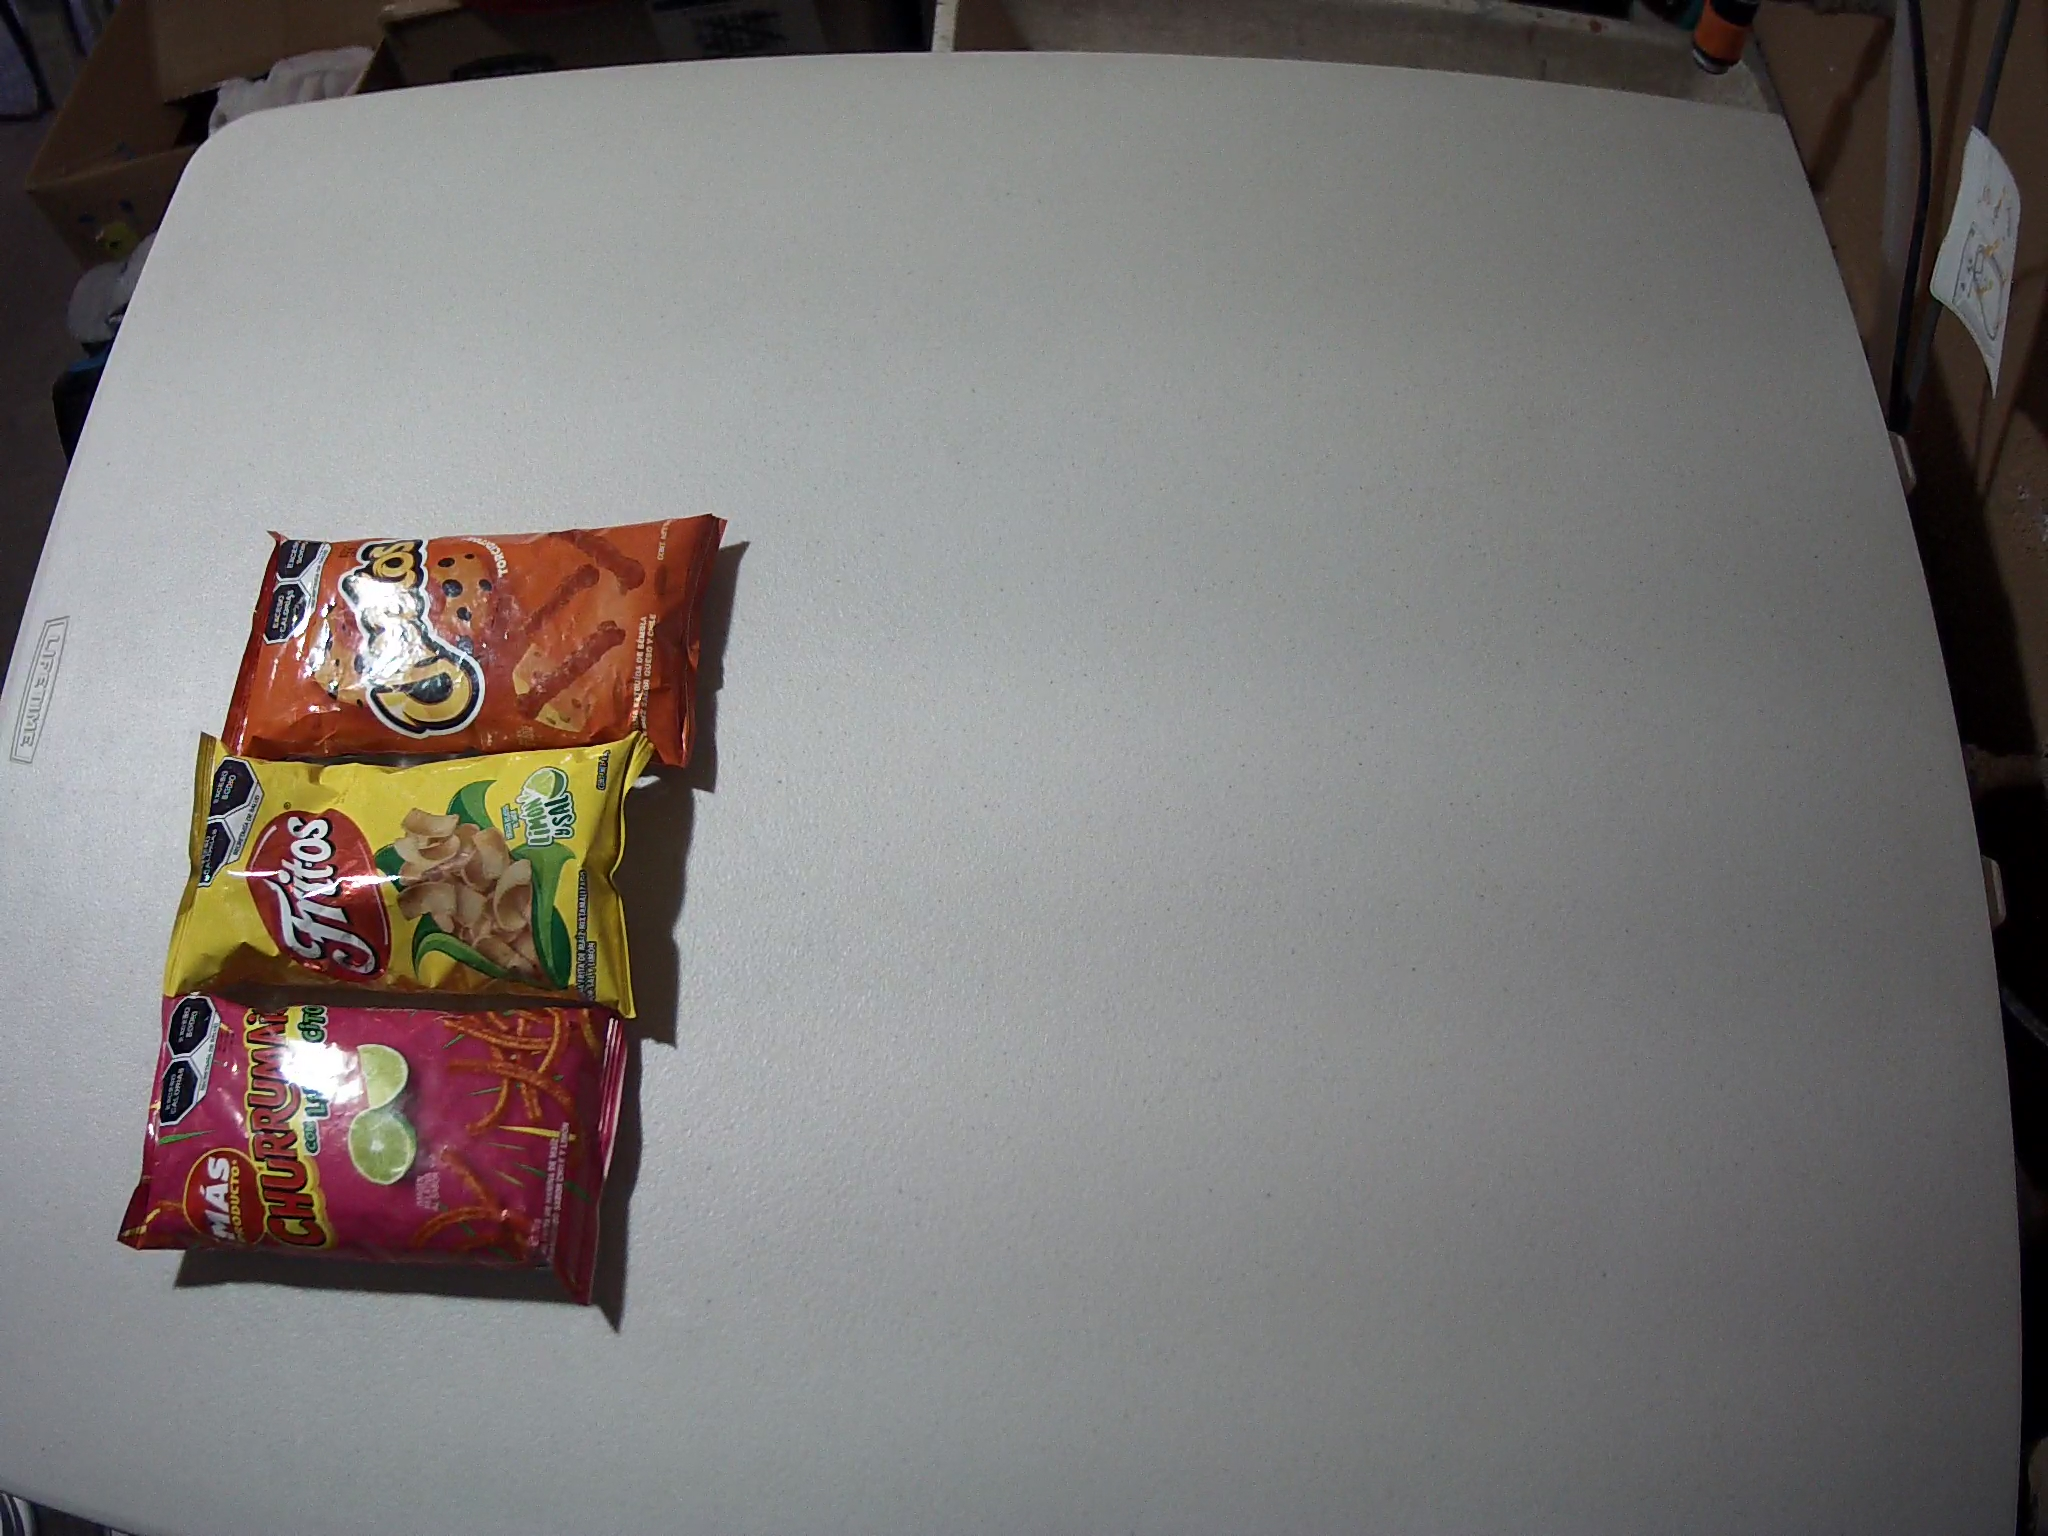CheetosTorciditos_55_F: (219, 515, 735, 768)
Churrumais_70_F: (118, 997, 627, 1304)
FritosSalLimon_65_F: (161, 734, 655, 1021)
